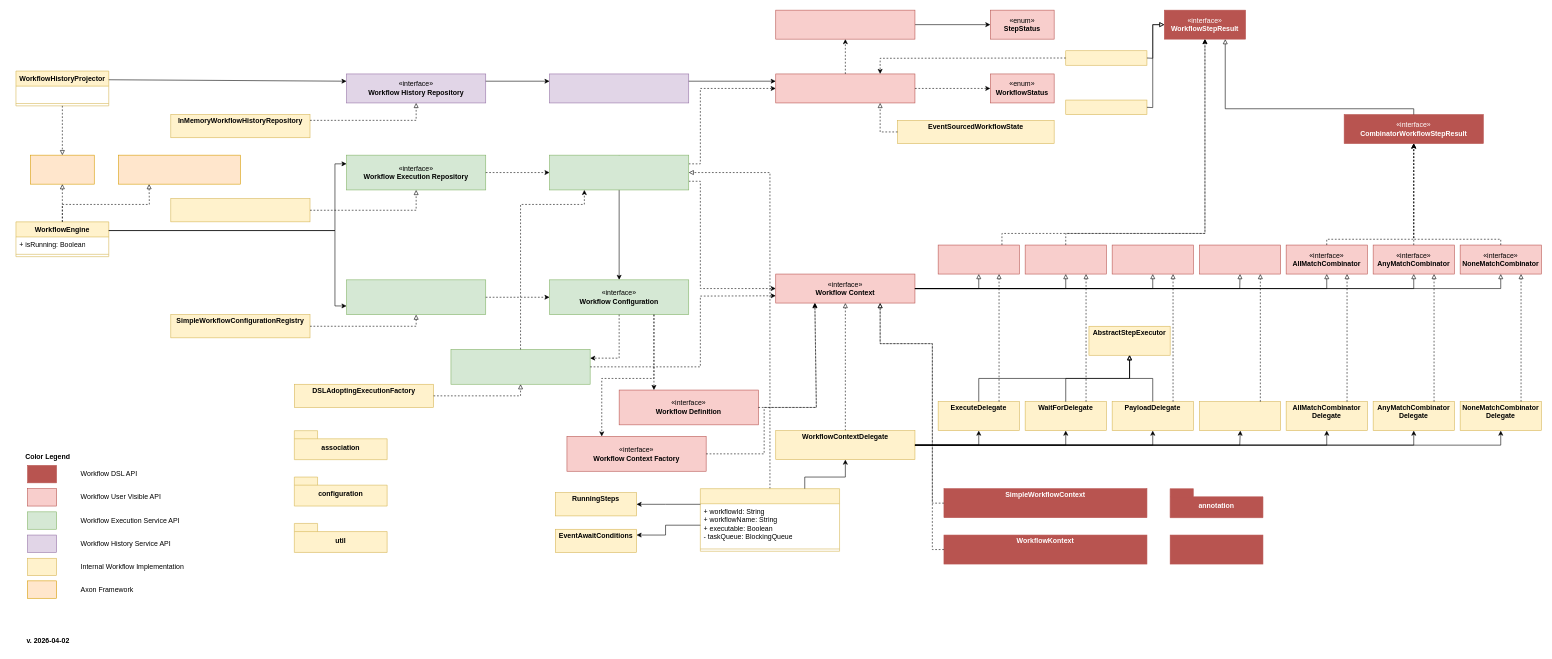
Some shapes in this 1552 by 659 pixel diagram are drawn without their labels. Here are the shapes that lost their labels. From the top down, the box of each, then its label:
(775, 10, 915, 39): WorkflowStep
(1065, 50, 1147, 65): StateBasedStepResult
(549, 73, 689, 103): Workflow History + workflowId: String
(775, 73, 915, 103): «interface» Workflow State
(1065, 99, 1147, 115): CompletedStepResult
(30, 155, 94, 184): «interface» EventHandler
(118, 155, 240, 184): «interface» ReplayStatusChangedHandler
(549, 155, 689, 190): «interface» Workflow Execution
(170, 198, 310, 222): InMemoryWorkflowExecutionRepository
(938, 244, 1019, 274): «interface» ExecutePrimitive
(1025, 244, 1106, 274): «interface» WaitForPrimitive
(1112, 244, 1193, 274): «interface» PayloadPrimitive
(1199, 244, 1281, 274): «interface» WorkflowLifecycleControl
(346, 279, 486, 315): «interface» Workflow Configuration Registry
(450, 349, 590, 384): «interface» Workflow Execution Factory
(1199, 401, 1281, 431): WorkflowLifecycleControlDelegate
(700, 488, 840, 551): SimpleWorkflowExecution
(1170, 534, 1263, 564): Associations
